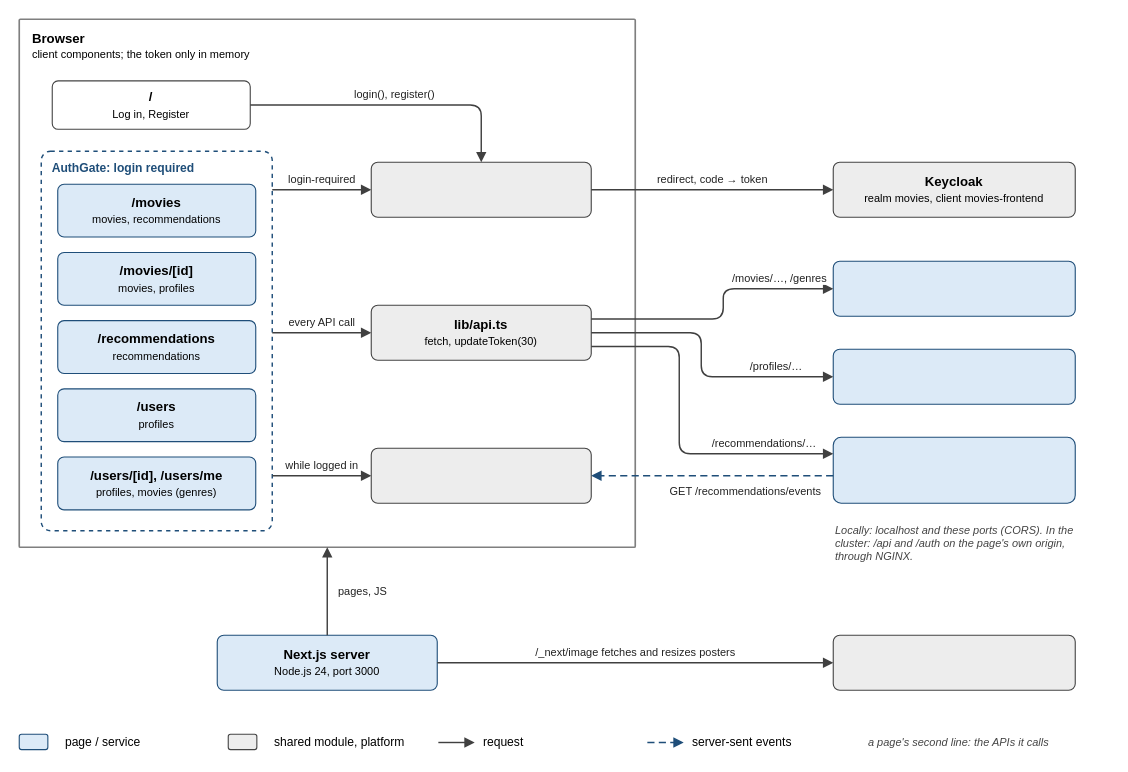
Image size: 1128x772. Some labels were removed from this diagram. Here are the shapes that lost their labels. From the top down, the centre of each, then its label:
At pixel 480 189: "lib/keycloak.ts keycloak-js, PKCE (S256)".
At pixel 953 288: "Movies API :8080 · /api/movies, /api/genres".
At pixel 953 376: "Profiles API :8081 · /api/profiles".
At pixel 480 475: "lib/recommendation-events.ts fetch-based SSE".
At pixel 953 469: "Recommendations API :8082 · /api/recommendations".
At pixel 953 662: "image.tmdb.org movie posters".
